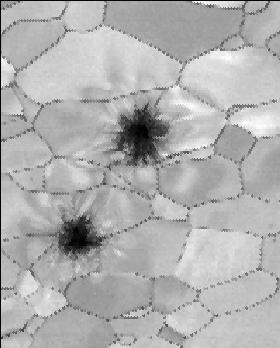good_void: (49, 203, 126, 263), (111, 99, 172, 171)
